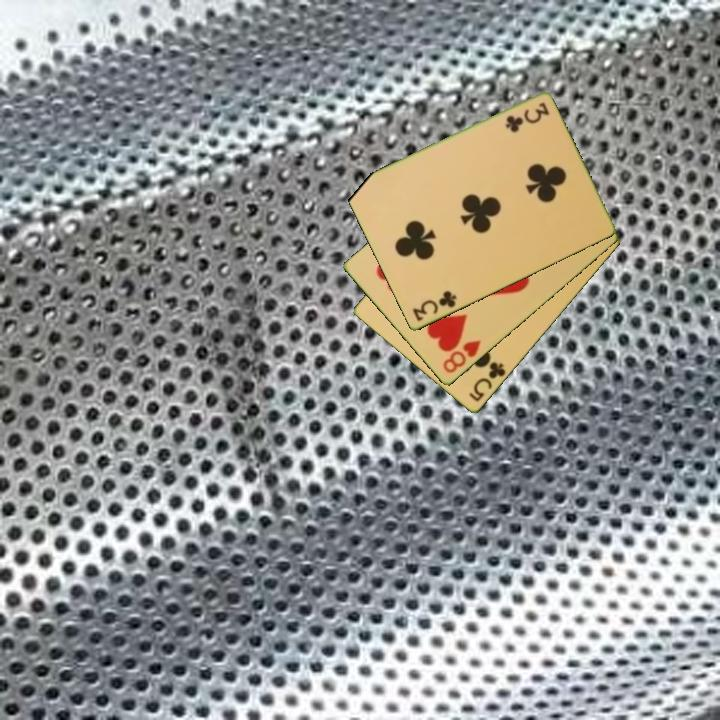3c: (409, 287, 460, 325), (502, 99, 552, 134)
5c: (465, 358, 509, 405)
8h: (439, 337, 484, 376)
